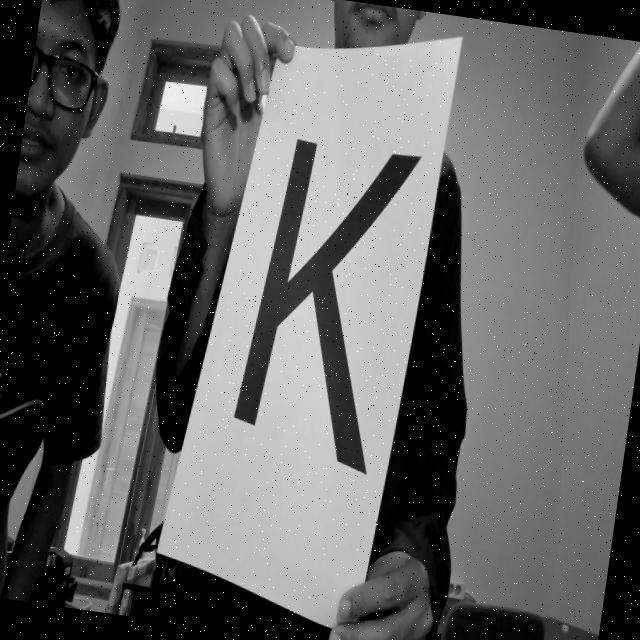k: (191, 80, 450, 502)
